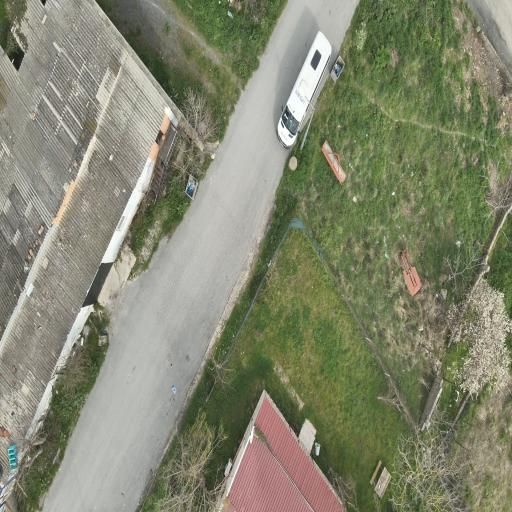car: (277, 32, 331, 148)
